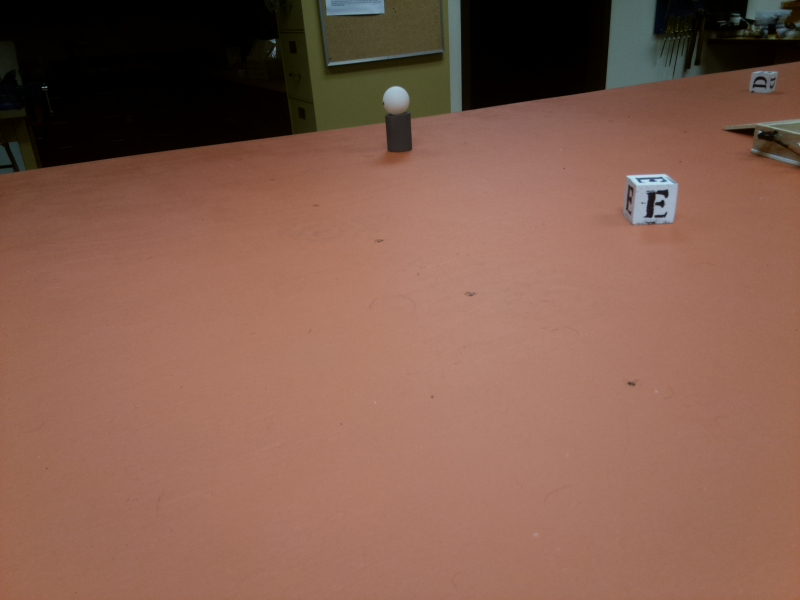blockD: (749, 69, 777, 94)
blockE: (620, 170, 681, 231)
obstacle: (378, 85, 417, 156)
side: (751, 123, 800, 167)
